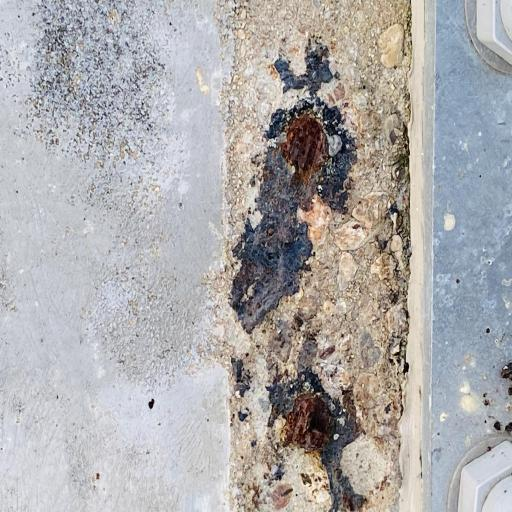exposed_rebar: (280, 116, 329, 199), (287, 395, 330, 448)
spalling: (204, 0, 410, 512)
